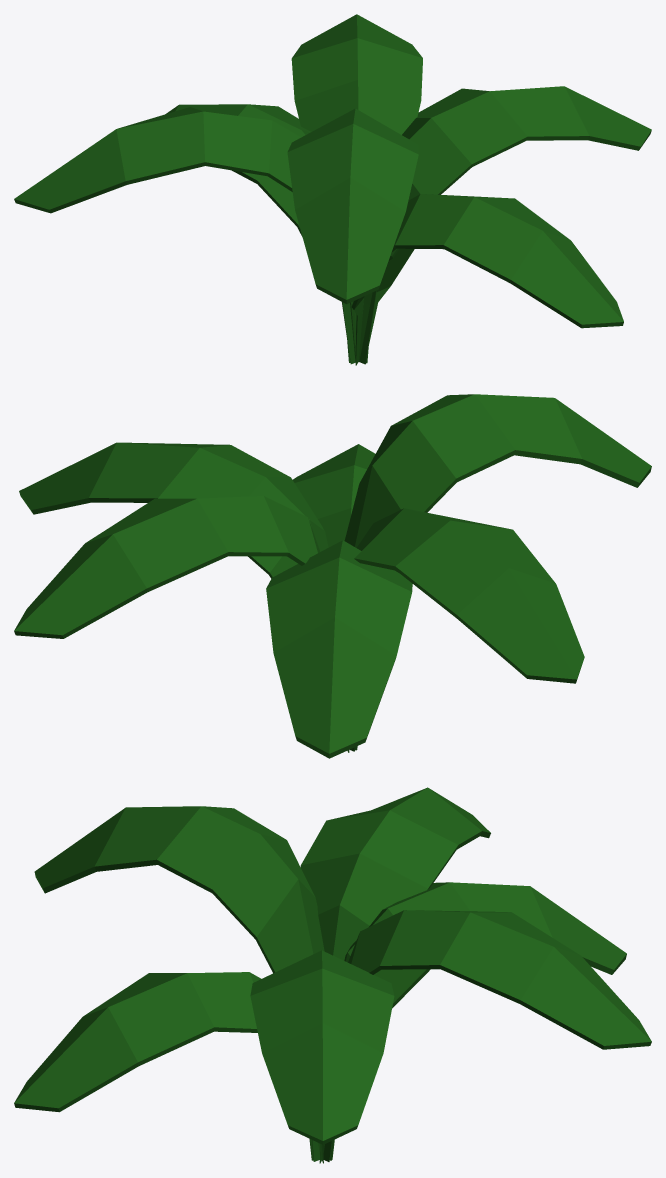
File: Plant2.fbx
The picture shows the model from 3 angles, top to bottom: view 1: azimuth 30°, elevation 25°; view 2: azimuth 150°, elevation 25°; view 3: azimuth 270°, elevation 25°; orthographic projection. The views are drawn at different scales.
Visible parts, largest first — view 1: BUSH_Tall; view 2: BUSH_Tall; view 3: BUSH_Tall.
Boxes of the visible parts, x1,y1,x2,y2 form: BUSH_Tall: (14, 14, 651, 365); BUSH_Tall: (14, 394, 651, 758); BUSH_Tall: (14, 787, 651, 1163).
Size of the model in its own units: 5.5 by 2.7 by 4.87.
